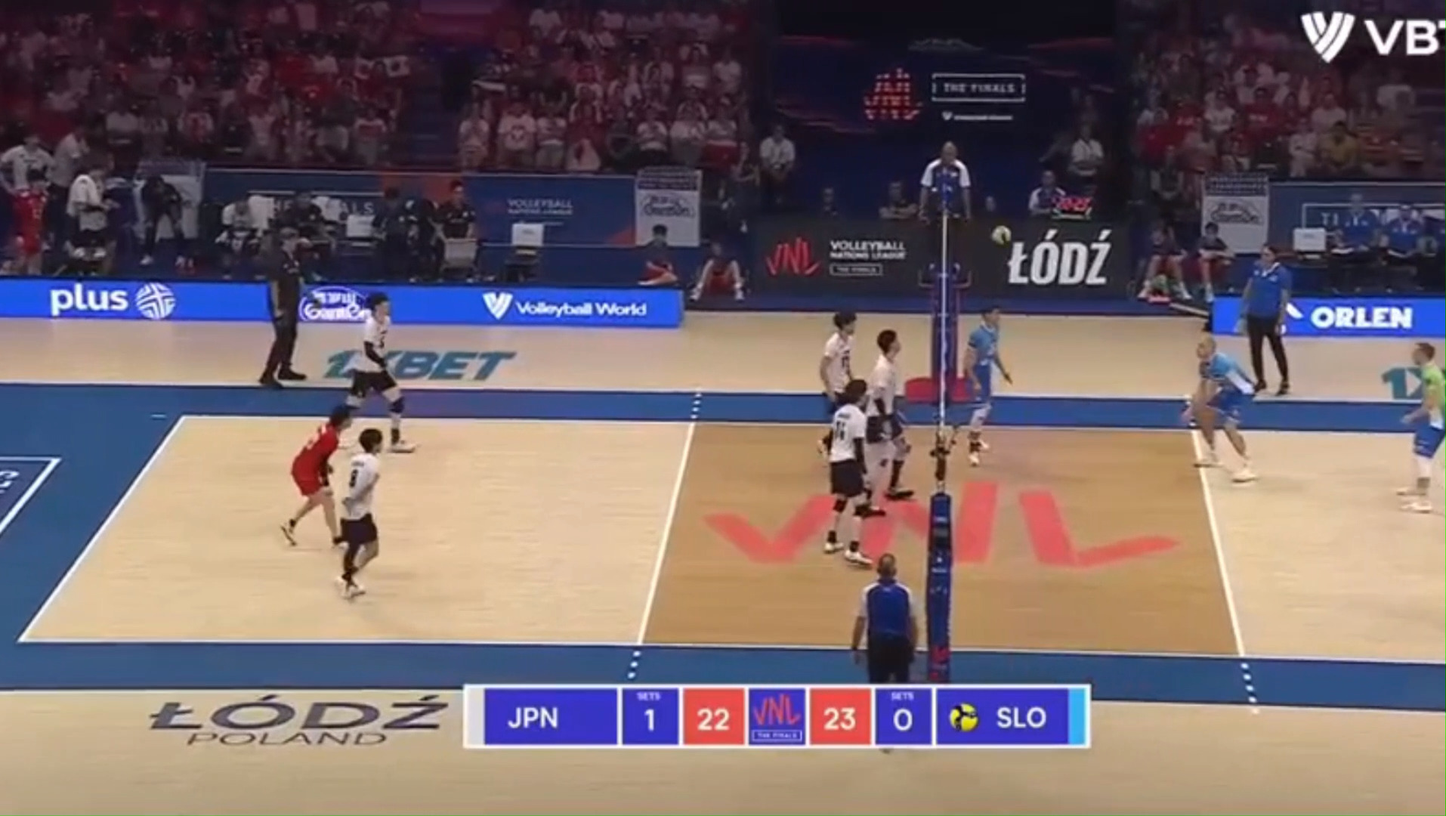ball: (990, 224, 1012, 245)
player: (1182, 334, 1256, 482), (1398, 342, 1445, 512), (965, 308, 1012, 466)
player 1: (347, 292, 414, 452), (281, 403, 352, 545), (823, 380, 876, 565), (865, 329, 913, 499), (338, 428, 384, 599), (817, 311, 857, 414)
referee: (851, 554, 918, 684), (258, 227, 306, 389), (918, 142, 972, 285), (1241, 245, 1292, 395)
